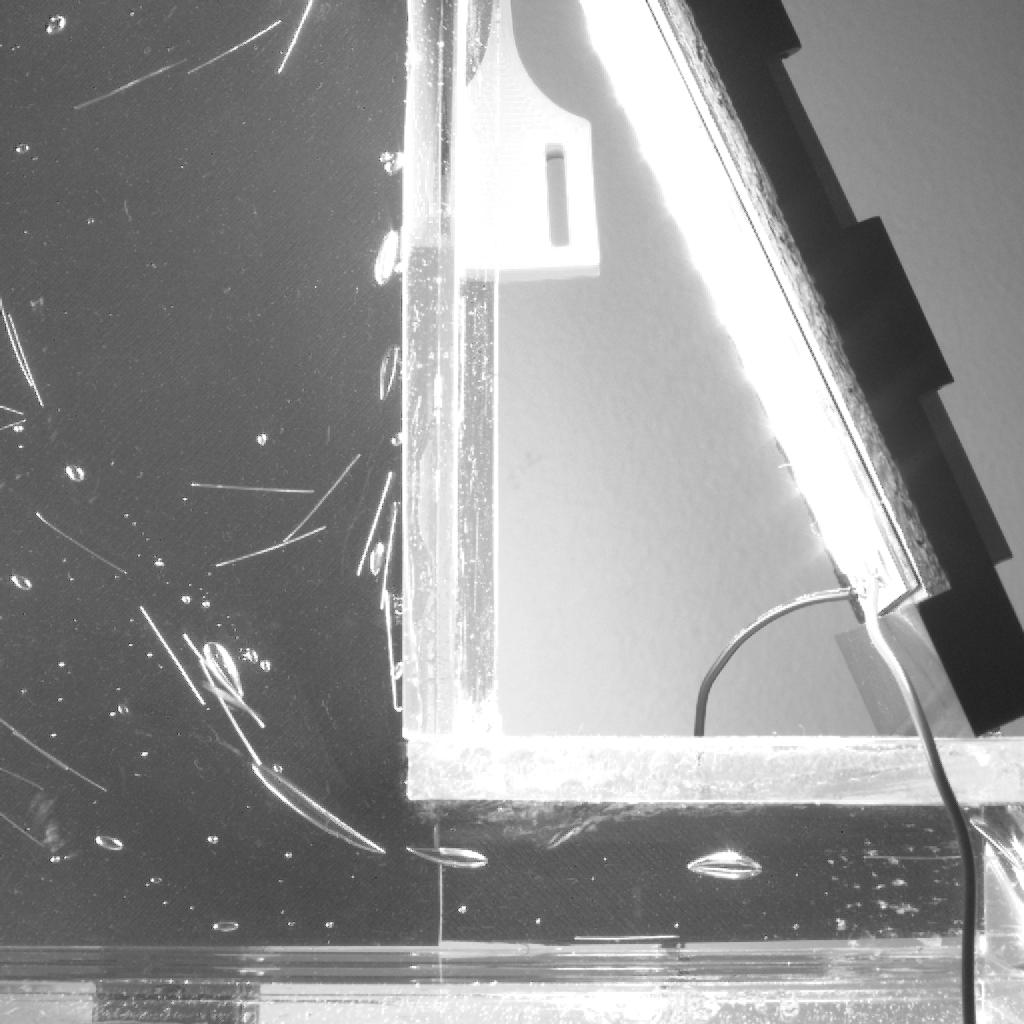Fiber: (177, 627, 271, 730), (279, 447, 366, 550), (136, 600, 211, 711), (27, 504, 135, 580), (194, 658, 267, 767), (69, 53, 190, 114), (11, 729, 112, 796), (184, 14, 286, 80), (208, 522, 330, 570), (353, 466, 397, 581), (6, 310, 49, 413), (0, 716, 71, 775), (273, 0, 320, 77), (0, 296, 33, 392), (376, 499, 401, 613), (380, 590, 401, 713), (0, 810, 48, 849), (186, 482, 318, 494), (0, 766, 48, 793), (573, 933, 683, 944), (862, 852, 961, 863), (2, 418, 28, 433), (0, 407, 23, 417)
